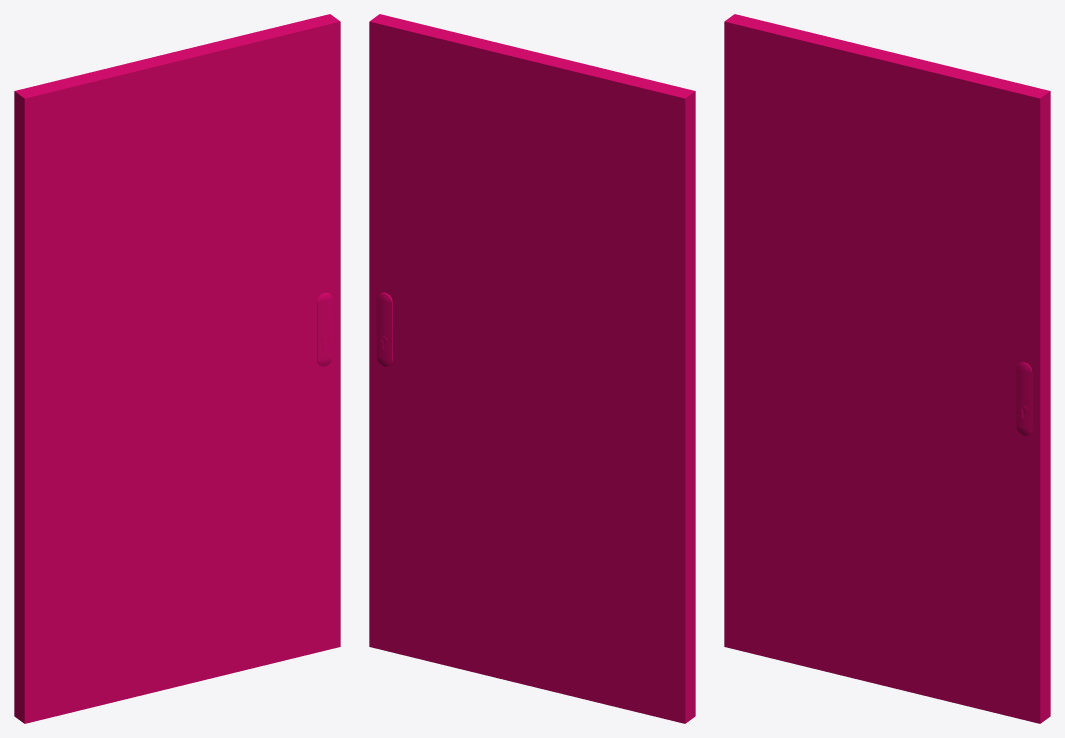
File: Door_Metal_02_Lod0.fbx
3 renders of one model, left to right at view 1: azimuth 30°, elevation 25°; view 2: azimuth 150°, elevation 25°; view 3: azimuth 330°, elevation 25°, orthographic.
Visible parts, largest first — view 1: Door_Metal_02_Lod0; view 2: Door_Metal_02_Lod0; view 3: Door_Metal_02_Lod0.
Part boxes in pixels (x1,y1,x2,y2): Door_Metal_02_Lod0: (14, 14, 340, 723); Door_Metal_02_Lod0: (369, 14, 695, 723); Door_Metal_02_Lod0: (724, 14, 1050, 723).
Size of the model in its own units: 115 by 218 by 7.67.
